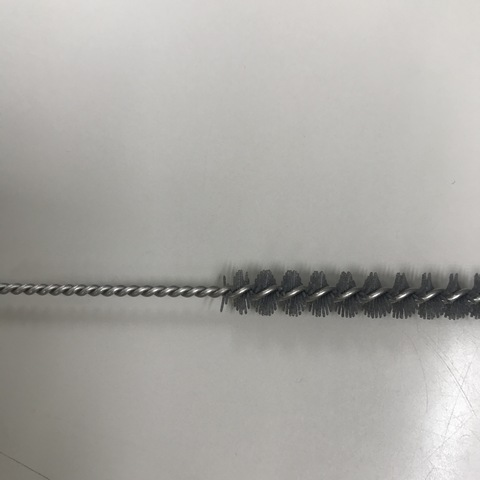Twist Brush-A: (2, 253, 480, 331)
